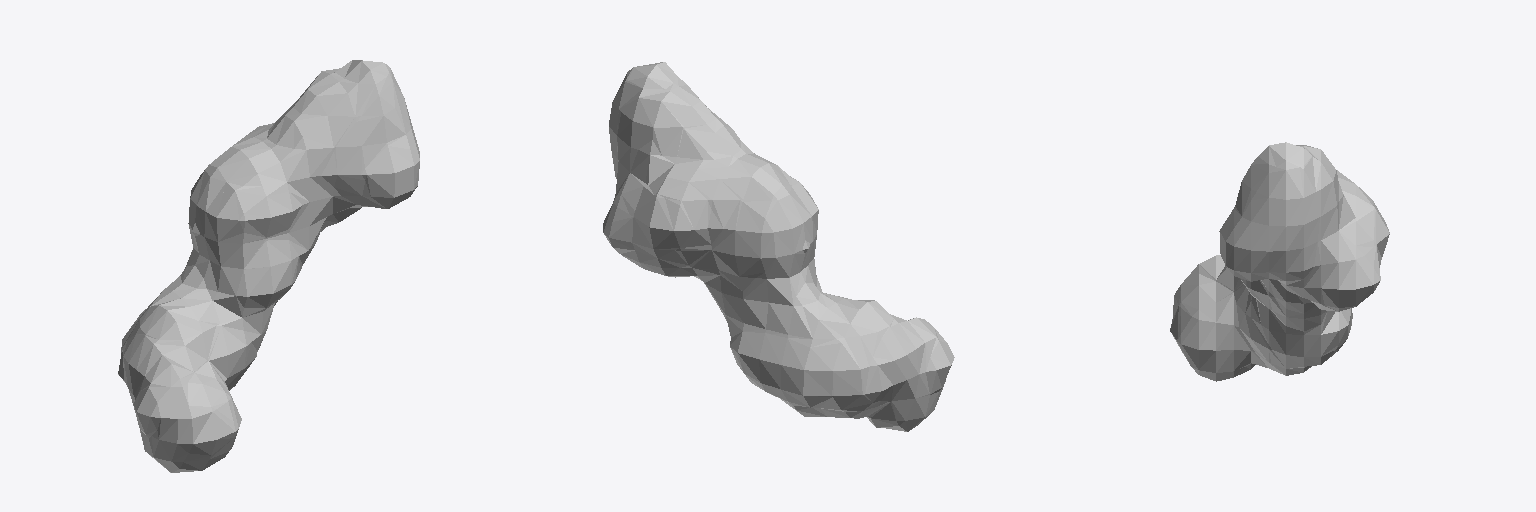
The model's file is 1l2f_cms.obj.
3 views of the same model, side by side, from view 1: azimuth 30°, elevation 25°; view 2: azimuth 150°, elevation 25°; view 3: azimuth 270°, elevation 25° (orthographic).
Size of the model in its own units: 101 by 106 by 63.39.